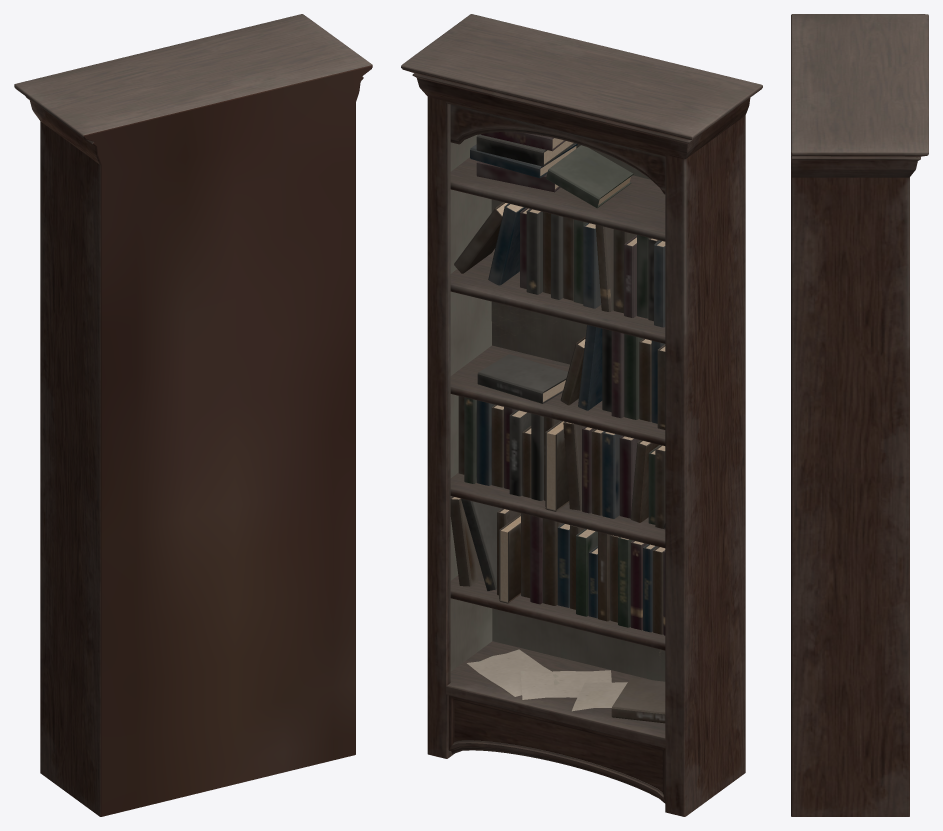
File: bookshelf.gltf
The picture shows the model from 3 angles, left to right: view 1: azimuth 30°, elevation 25°; view 2: azimuth 150°, elevation 25°; view 3: azimuth 270°, elevation 25°; orthographic projection. The views are drawn at different scales.
Parts seen in each view (by area): view 1: Old_Dusty_Bookshelf_1; view 2: Old_Dusty_Bookshelf_1; view 3: Old_Dusty_Bookshelf_1.
Part boxes in pixels (left/top/right/bottom): Old_Dusty_Bookshelf_1: left=14, top=14, right=372, bottom=816; Old_Dusty_Bookshelf_1: left=401, top=14, right=762, bottom=816; Old_Dusty_Bookshelf_1: left=791, top=14, right=928, bottom=816.
Bounding box in the file's own units: 0.9199 × 2.08 × 0.3865.
Materials: 2 (2 with a texture image).
